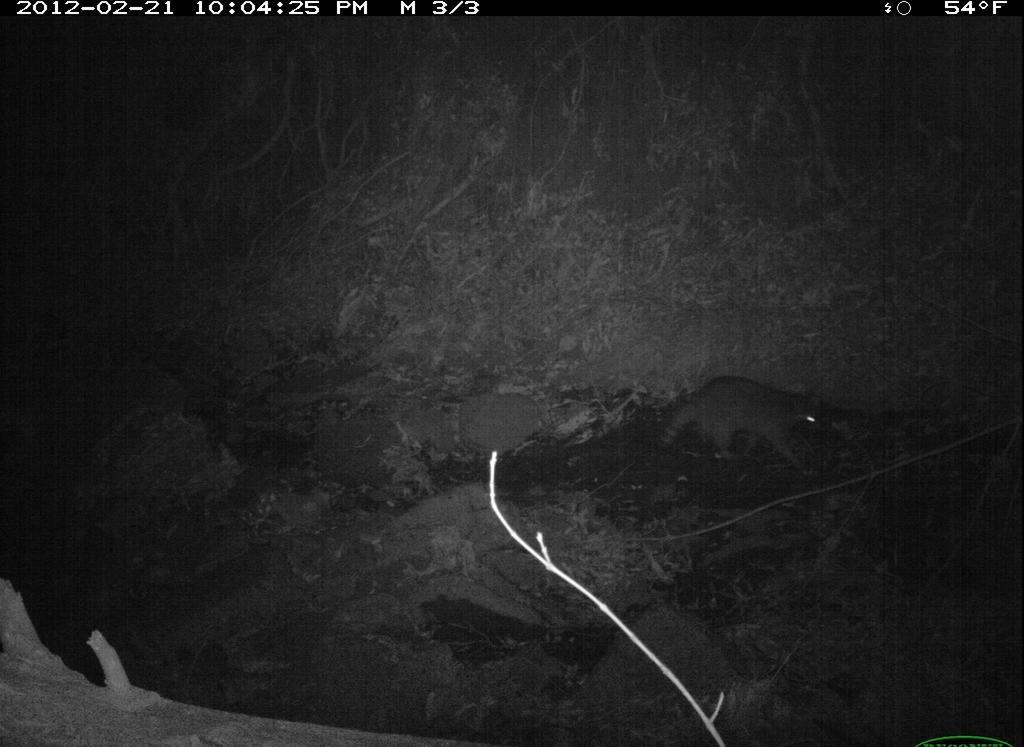raccoon: (646, 369, 836, 483)
